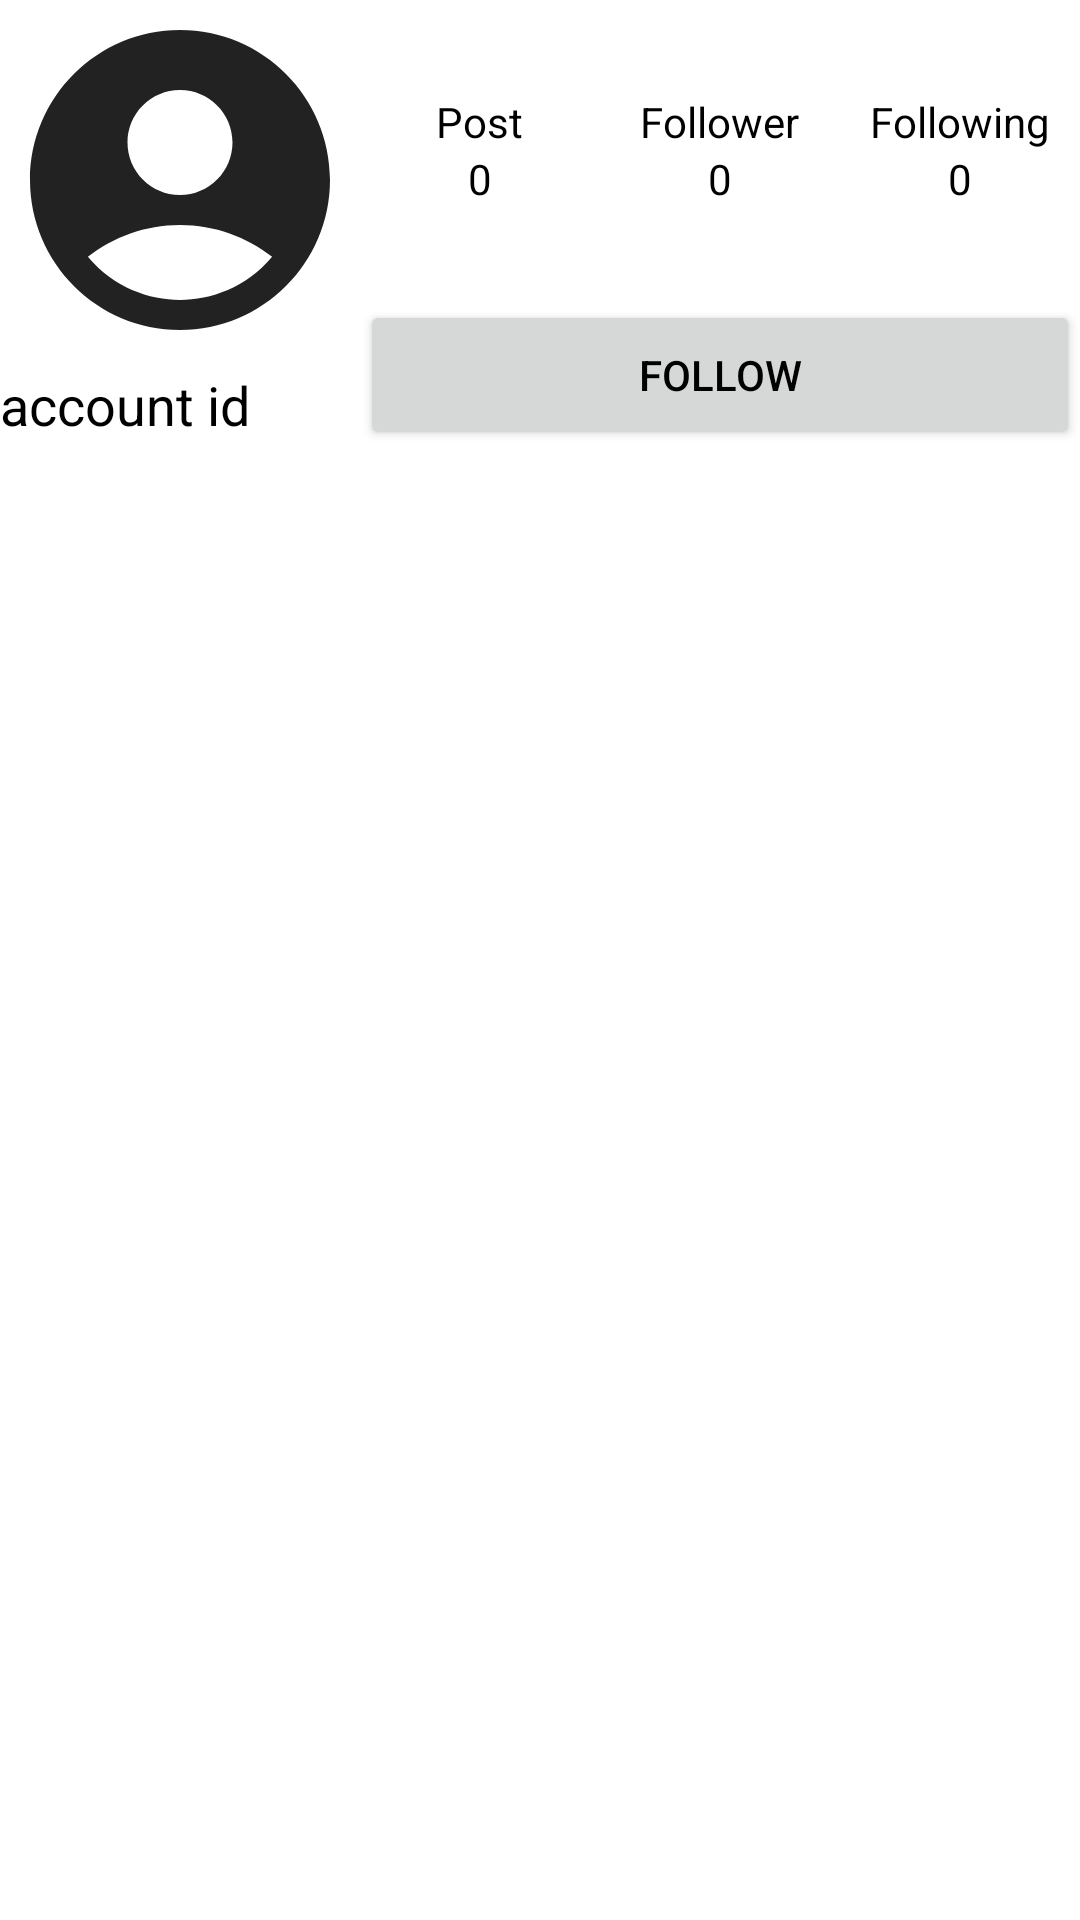

Icons on this 1080x1920 Android screen, each with the point to tap as [x,y]:
usericon: [180,180]
